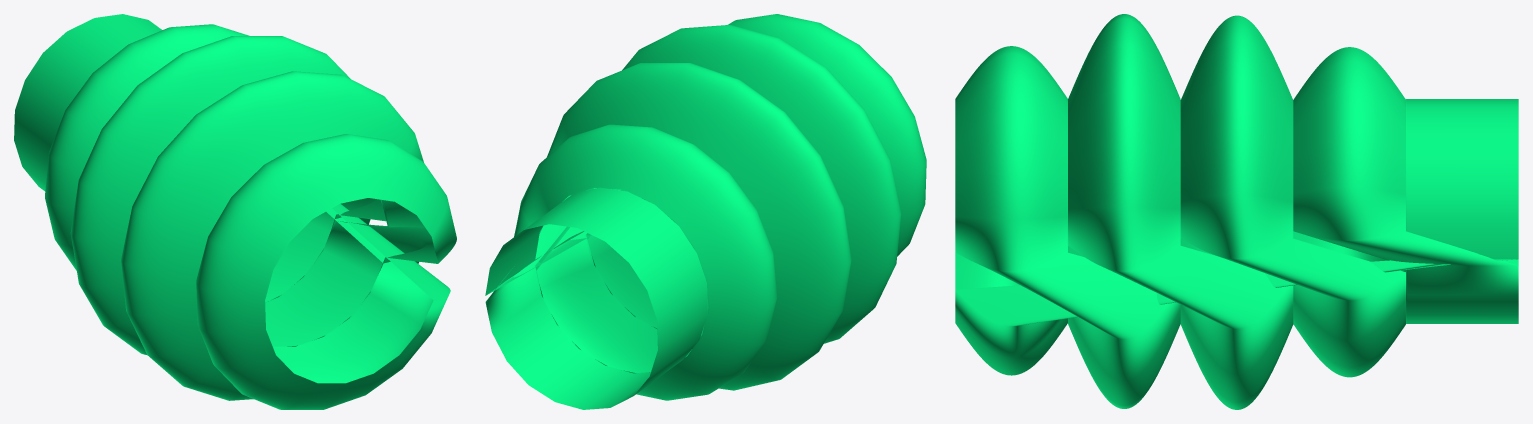
File: homotopy_infinity_category_ar_universal.glb
The picture shows the model from 3 angles, left to right: view 1: azimuth 30°, elevation 25°; view 2: azimuth 150°, elevation 25°; view 3: azimuth 270°, elevation 25°; orthographic projection. The views are drawn at different scales.
Parts seen in each view (by area): view 1: homotopy_infinity_category_ar; view 2: homotopy_infinity_category_ar; view 3: homotopy_infinity_category_ar.
Part boxes in pixels (bbox=[...]): homotopy_infinity_category_ar: bbox=[14, 14, 456, 409]; homotopy_infinity_category_ar: bbox=[485, 14, 926, 409]; homotopy_infinity_category_ar: bbox=[955, 14, 1518, 409].
Bounding box in the file's own units: 0.7013 × 0.7036 × 1.
